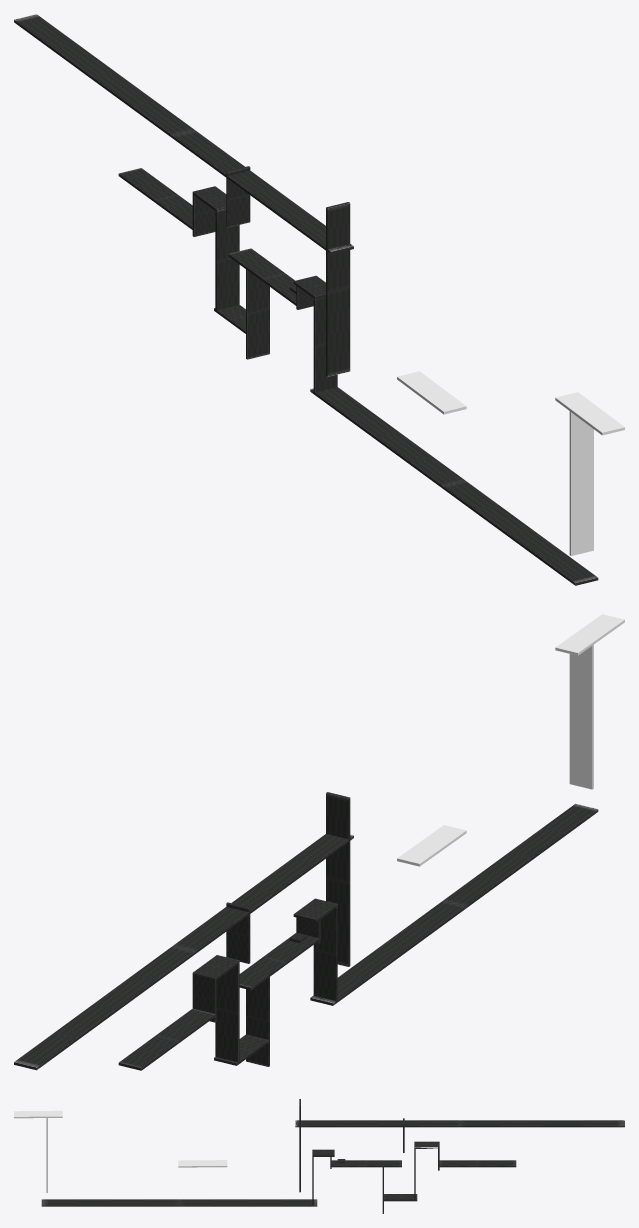
File: LEVEL2.gltf
The picture shows the model from 3 angles, top to bottom: view 1: azimuth 30°, elevation 25°; view 2: azimuth 150°, elevation 25°; view 3: azimuth 270°, elevation 25°; orthographic projection. The views are drawn at different scales.
Visible parts, largest first — view 1: CSGCombiner3D2; view 2: CSGCombiner3D2; view 3: CSGCombiner3D2.
Part boxes in pixels (x1,y1,x2,y2): CSGCombiner3D2: (14,14,624,585); CSGCombiner3D2: (14,614,624,1070); CSGCombiner3D2: (14,1099,624,1213).
Bounding box in the file's own units: 8.91 × 78.62 × 399.
2 materials, 1 textured.
